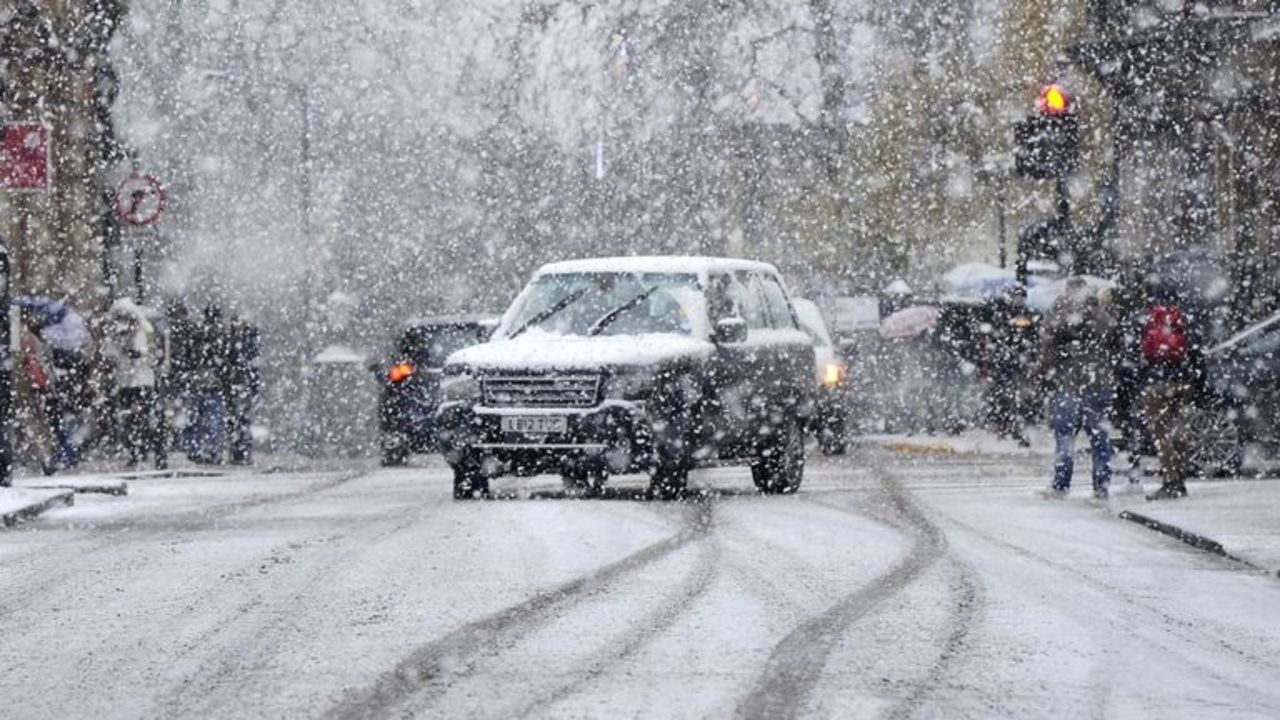car: (448, 258, 840, 500), (374, 312, 497, 458)
person: (1031, 281, 1115, 503), (1129, 271, 1199, 499), (102, 303, 169, 462), (204, 308, 258, 460)
